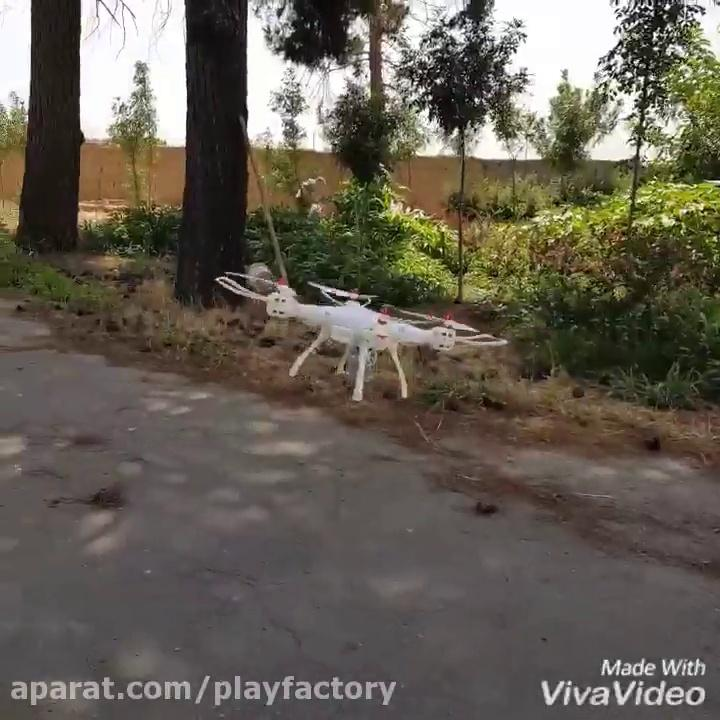drone: (214, 271, 507, 402)
